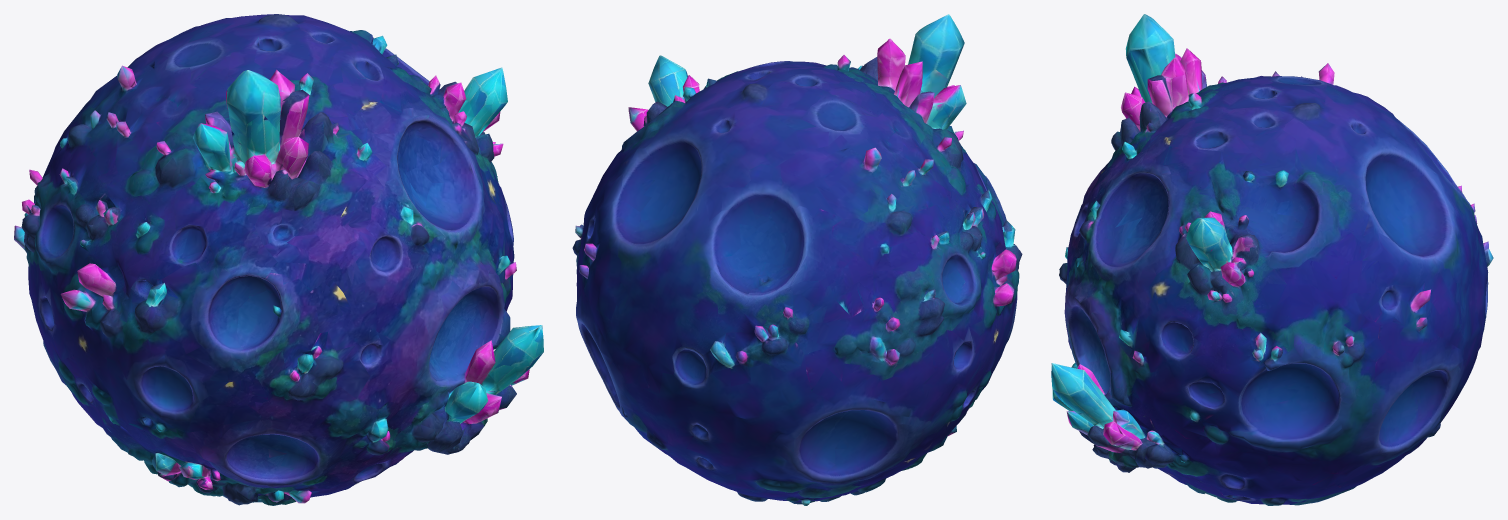
Rendered from planet-crystal.glb.
The picture shows the model from 3 angles, left to right: view 1: azimuth 30°, elevation 25°; view 2: azimuth 150°, elevation 25°; view 3: azimuth 270°, elevation 25°; orthographic projection. The views are drawn at different scales.
Parts seen in each view (by area): view 1: Mesh_0; view 2: Mesh_0; view 3: Mesh_0.
Boxes of the visible parts, x1,y1,x2,y2 form: Mesh_0: [14, 14, 543, 505]; Mesh_0: [572, 14, 1022, 505]; Mesh_0: [1051, 14, 1493, 505].
Size of the model in its own units: 0.955 by 1 by 0.9243.
1 material, 1 textured.
